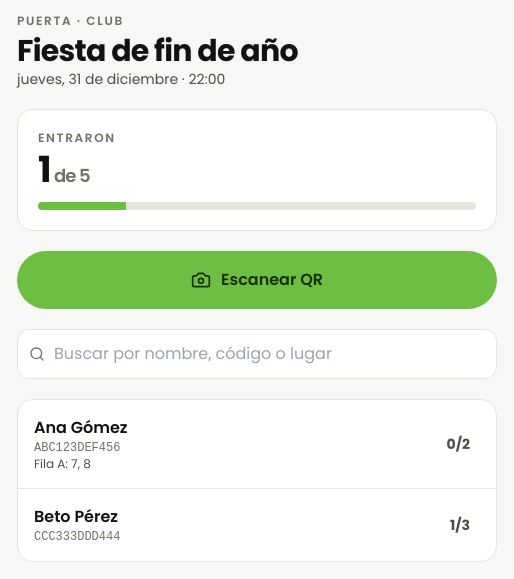
Test: Puerta › busca en la lista por lugar
expect the heading "Fiesta de fin de año" is shown: met, box [17,30,298,72]
Type "fila a" into the search field labelled "Buscar por nombre, código o lugar". click: (257, 354)
box: [17,329,497,379]
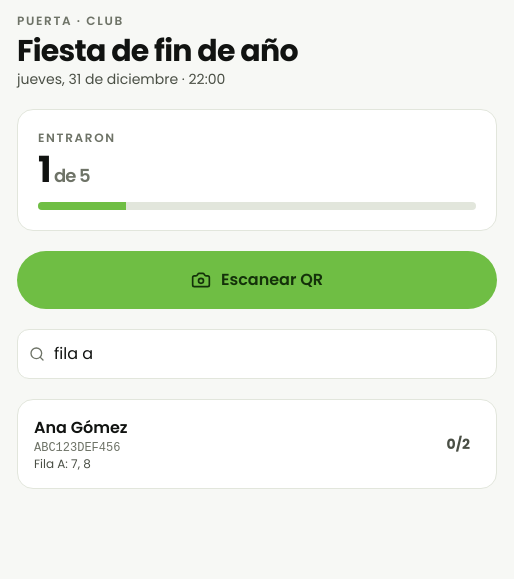
expect the text "Ana Gómez" is shown: met, box [34,416,128,440]
expect the button "Beto Pérez" is gone: met
